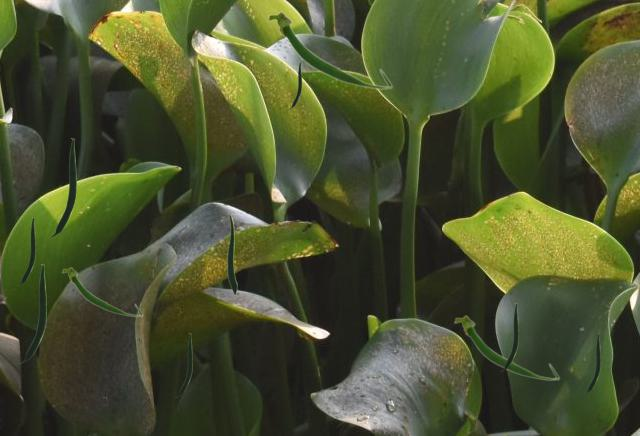french_bean: (266, 11, 392, 89), (453, 314, 559, 380), (61, 266, 142, 316), (50, 138, 75, 236), (20, 264, 45, 362), (18, 217, 34, 284), (501, 303, 517, 370), (176, 333, 191, 396), (585, 333, 599, 392), (227, 214, 236, 294), (290, 62, 300, 107)
